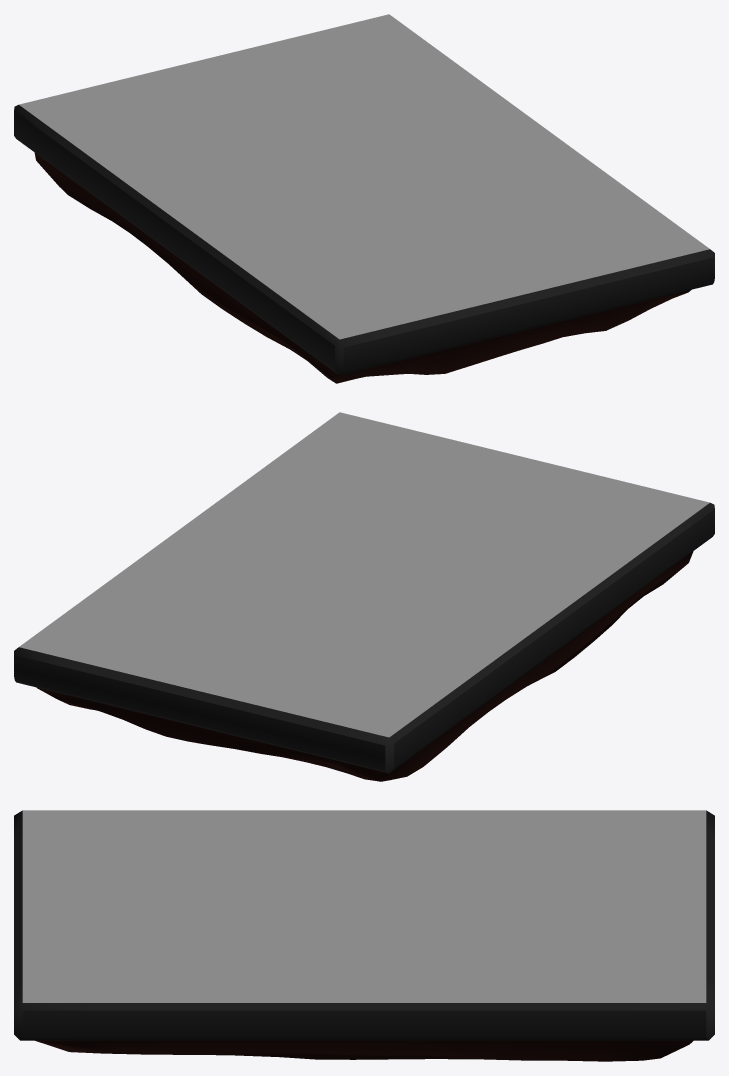
File: MET_Platforme_PetitMoyen_Pierre_01_LOD0.fbx
The picture shows the model from 3 angles, top to bottom: view 1: azimuth 30°, elevation 25°; view 2: azimuth 150°, elevation 25°; view 3: azimuth 270°, elevation 25°; orthographic projection. The views are drawn at different scales.
Parts seen in each view (by area): view 1: MET_Platforme_PetitMoyen_Pierre_01_LOD0; view 2: MET_Platforme_PetitMoyen_Pierre_01_LOD0; view 3: MET_Platforme_PetitMoyen_Pierre_01_LOD0.
Part boxes in pixels (x1=…): MET_Platforme_PetitMoyen_Pierre_01_LOD0: x1=14, y1=14, x2=714, y2=383; MET_Platforme_PetitMoyen_Pierre_01_LOD0: x1=14, y1=412, x2=714, y2=781; MET_Platforme_PetitMoyen_Pierre_01_LOD0: x1=14, y1=810, x2=714, y2=1061.
Bounding box in the file's own units: 400 × 80.23 × 600.
